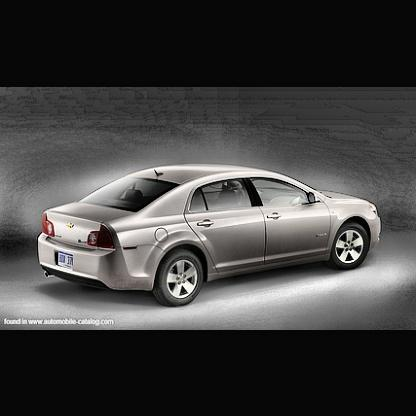Chevrolet Malibu Hybrid Sedan 2010: (40, 166, 384, 308)
